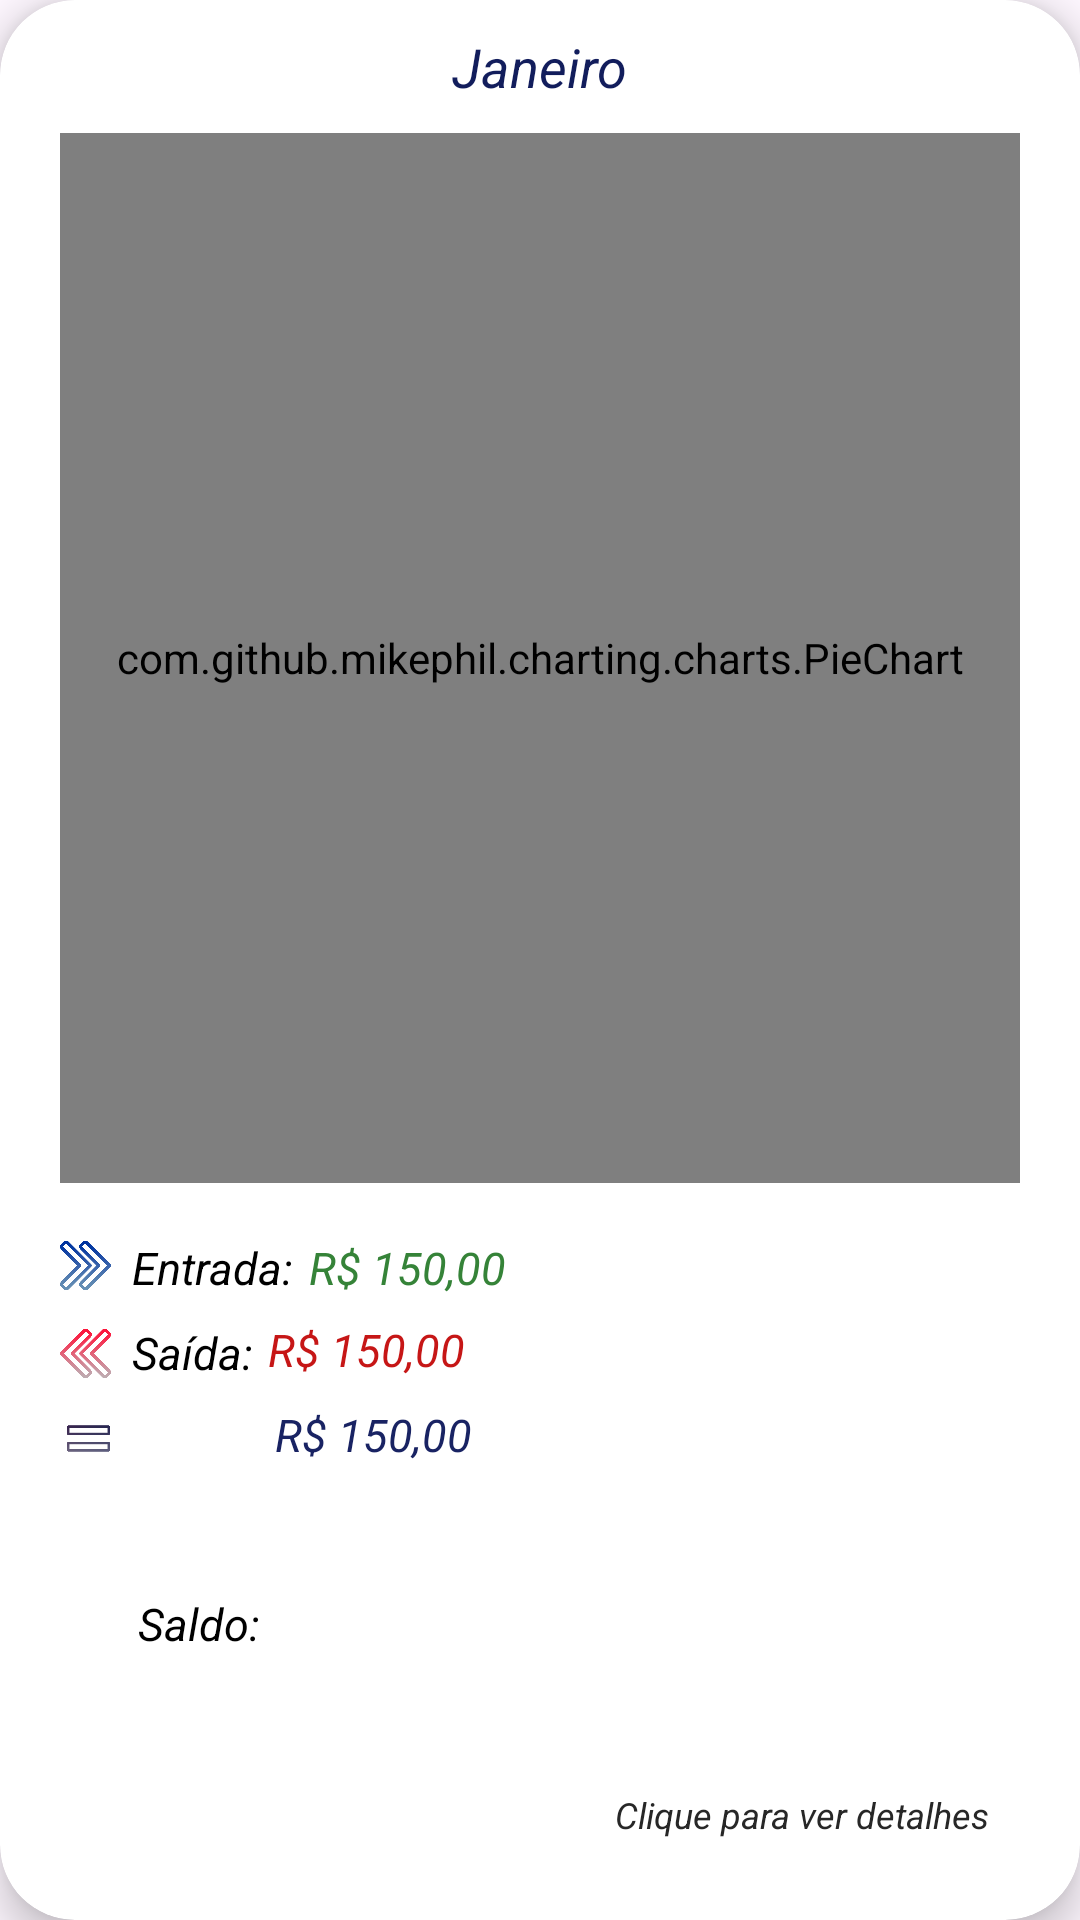

Icon click points for this 1080px x 1920px phone screenshot, format (x=x, y=y):
arrowiconinflow: (x=85, y=1265)
arrowiconoutflow: (x=85, y=1353)
equalicon: (x=88, y=1438)
